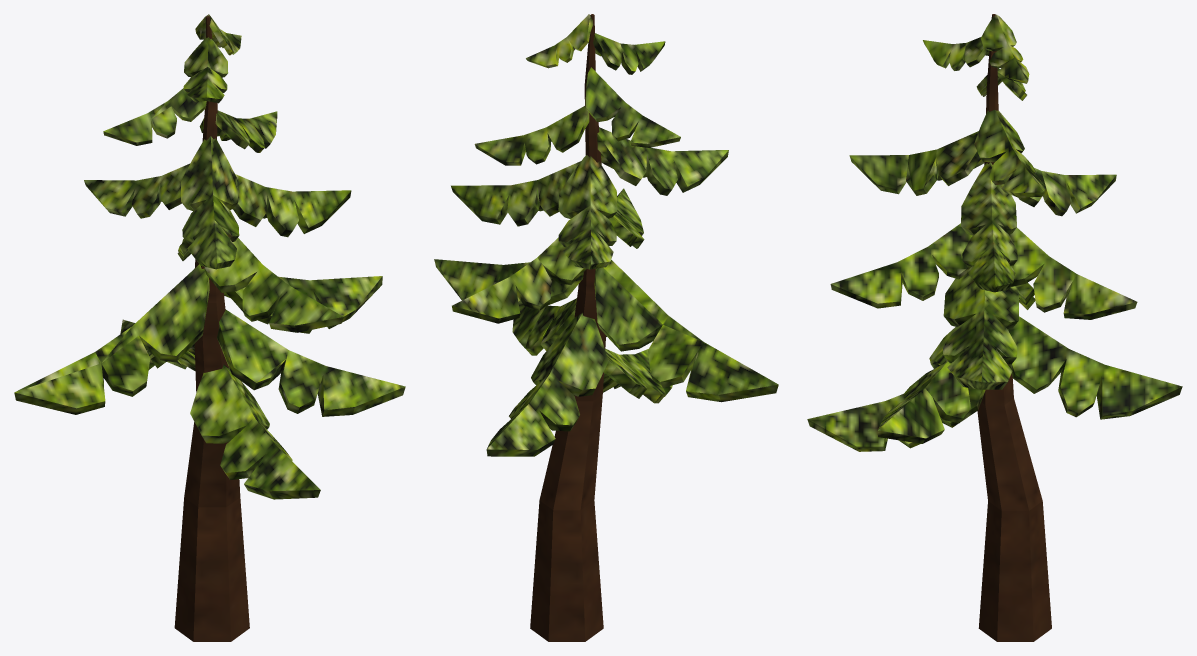
Rendered from Tree10.fbx.
3 renders of one model, left to right at view 1: azimuth 30°, elevation 25°; view 2: azimuth 150°, elevation 25°; view 3: azimuth 270°, elevation 25°, orthographic. The views are drawn at different scales.
Visible parts, largest first — view 1: trunk_10; view 2: trunk_10; view 3: trunk_10.
Boxes of the visible parts, box(x1,y1,x2,y2) form: trunk_10: box(14, 14, 405, 641); trunk_10: box(434, 14, 778, 641); trunk_10: box(807, 14, 1182, 641).
Bounding box in the file's own units: 4.75 × 7.87 × 4.4.
